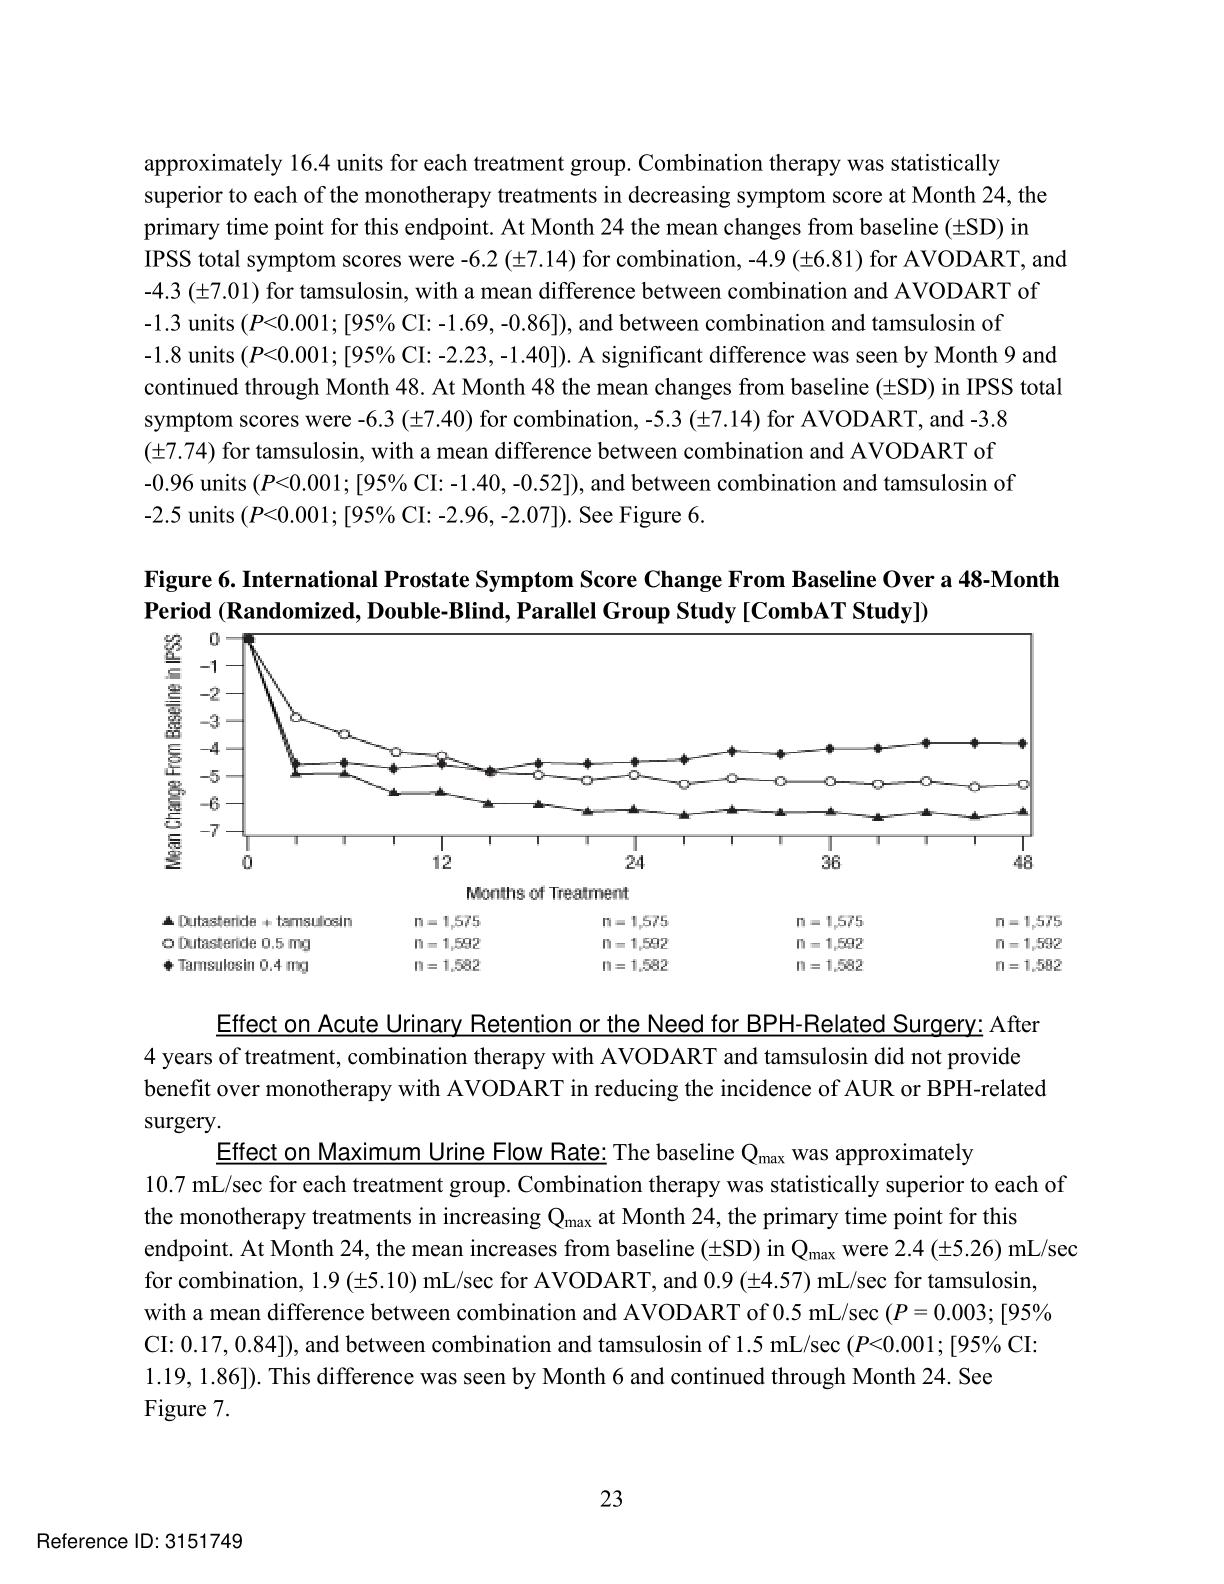nolines: (157, 912, 1067, 975)
